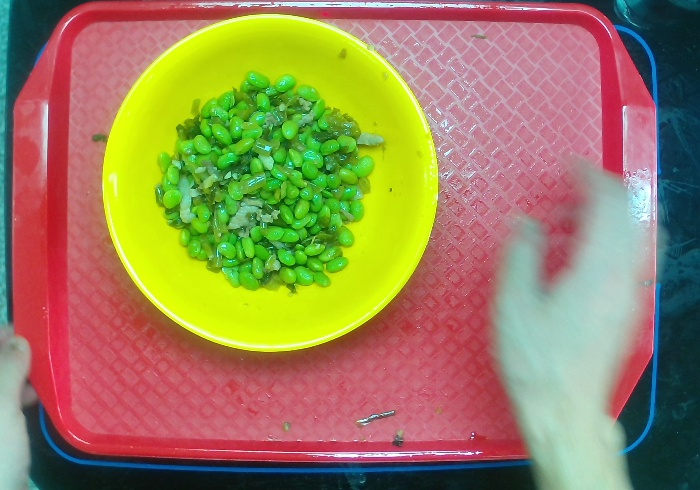YKMZ-Huang_Se_Tang_Wan: (97, 10, 446, 354)
